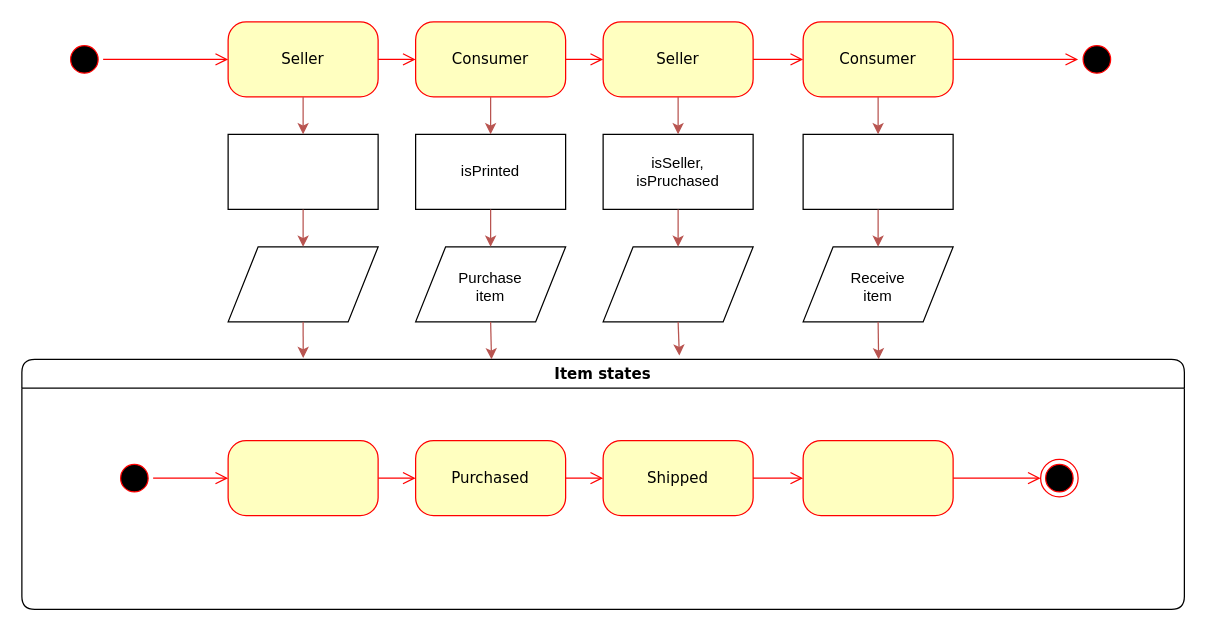
Image size: 1206x631. Some labels were removed from this diagram. The shapes that lost their labels are listed below. From the top down, each one's centre as x and y in pixels, then its label:
At (302,171): "isSeller".
At (877,171): "isConsumer".
At (302,284): "Print item".
At (677,284): "Ship item".
At (302,477): "Printed".
At (877,477): "Received".
